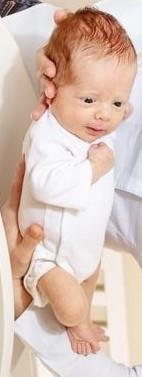Healthy: (57, 16, 139, 144)
